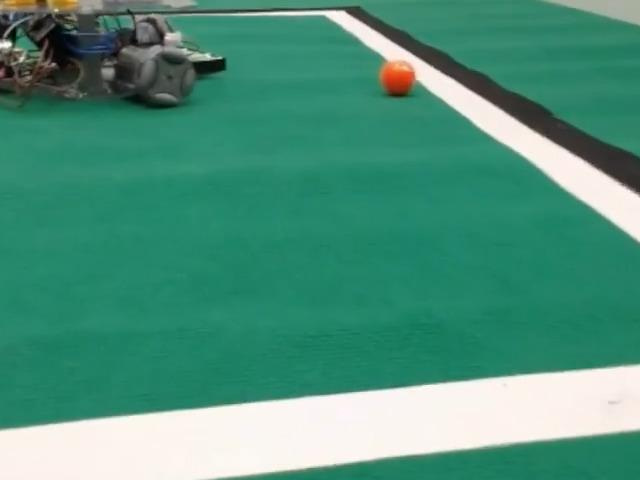Ball: (379, 60, 415, 96)
